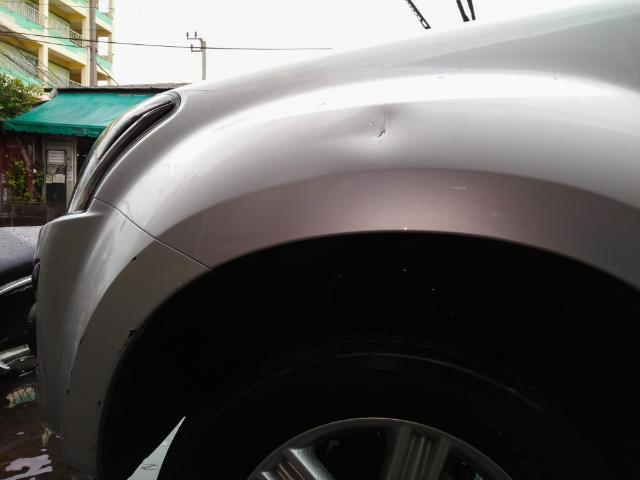dent: (327, 104, 410, 152)
scratch: (97, 328, 138, 411), (65, 335, 84, 407)
